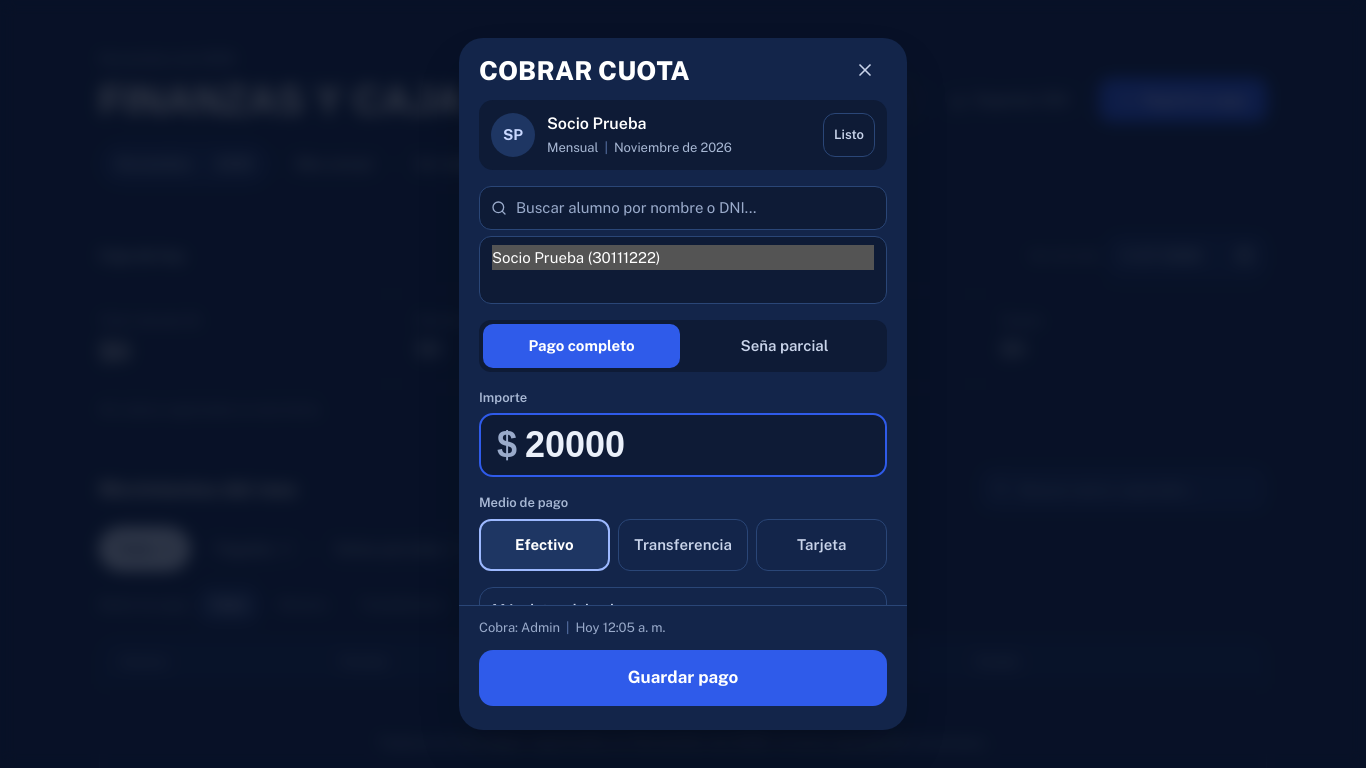
Scenario: confirmación de cobro › conserva datos y muestra el error 409
Click the button "Guardar pago": [683, 678] box [479,650,887,706]
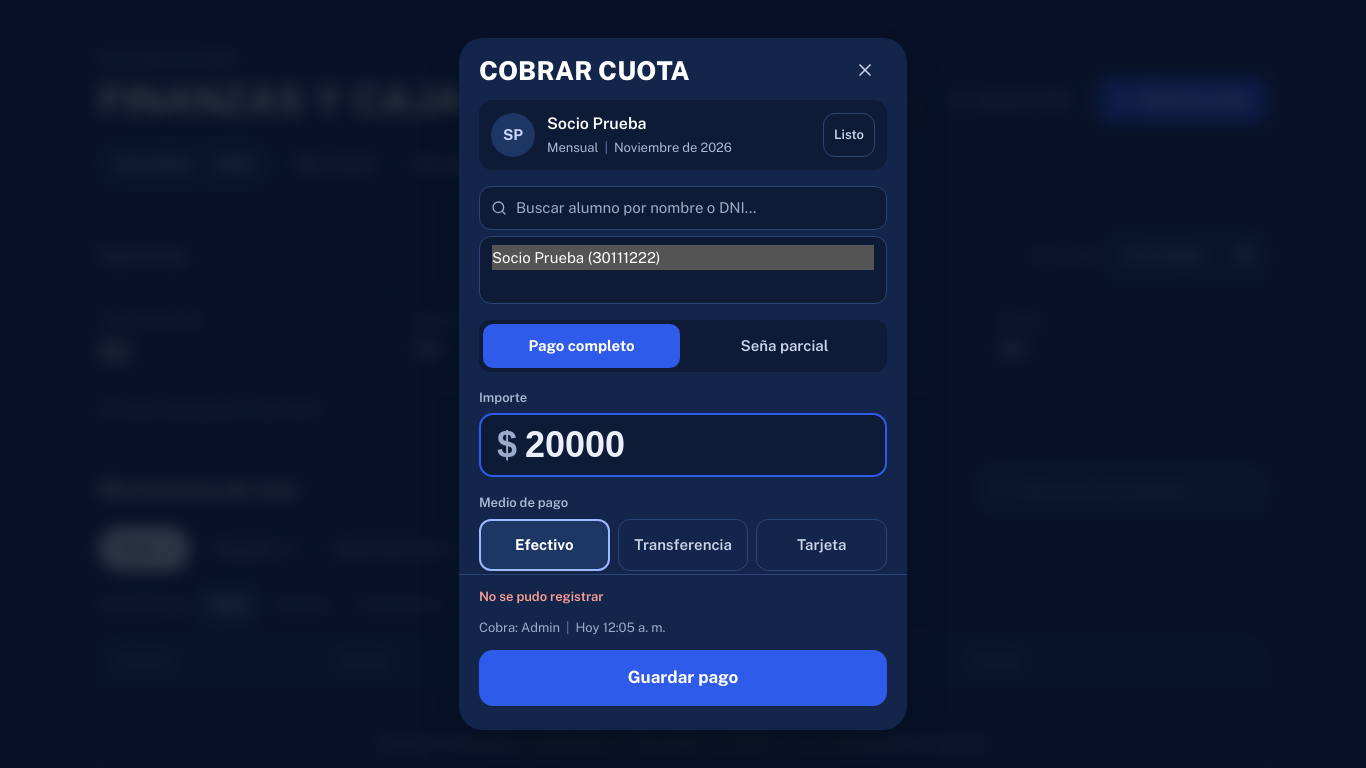
expect the dropdown named "Alumno" shows "Socio Prueba (30111222)": met, box [479,236,887,304]
expect the message reads "No se pudo registrar": met, box [479,589,604,604]
